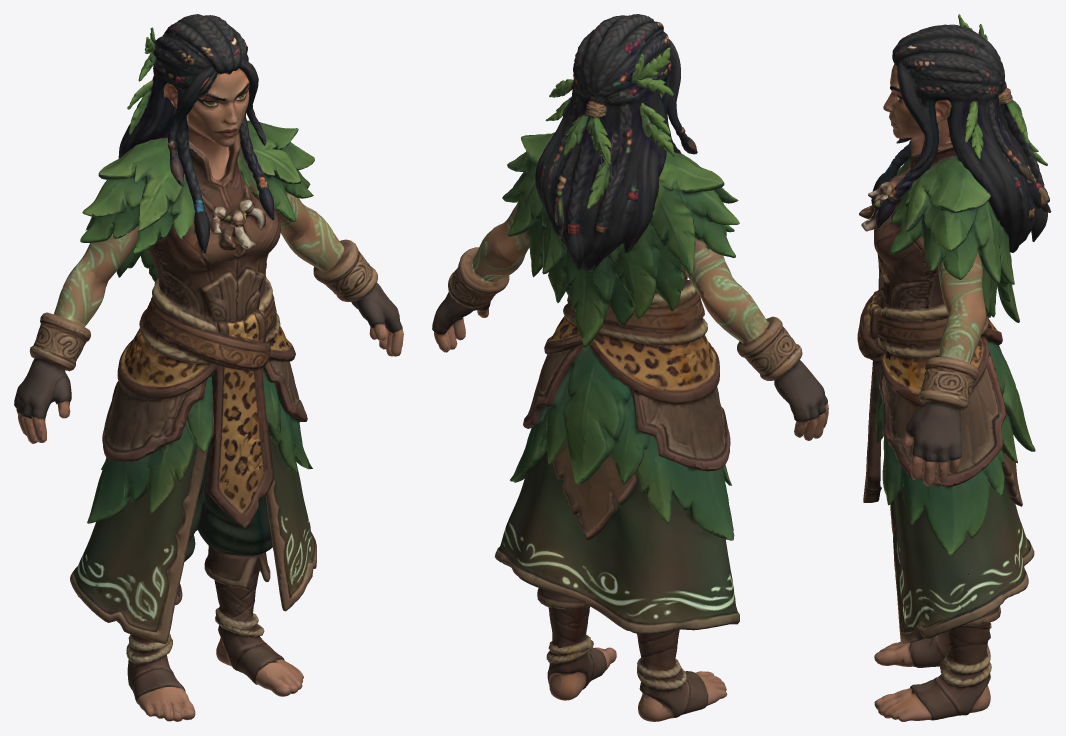
The model's file is druida.glb.
The picture shows the model from 3 angles, left to right: view 1: azimuth 30°, elevation 25°; view 2: azimuth 150°, elevation 25°; view 3: azimuth 270°, elevation 25°; orthographic projection. The views are drawn at different scales.
Parts seen in each view (by area): view 1: geometry_0; view 2: geometry_0; view 3: geometry_0.
Part boxes in pixels (x1,y1,x2,y2): geometry_0: [14, 14, 403, 721]; geometry_0: [432, 14, 828, 721]; geometry_0: [857, 14, 1051, 721].
Bounding box in the file's own units: 0.58 × 0.9794 × 0.261.
1 material, 1 textured.
